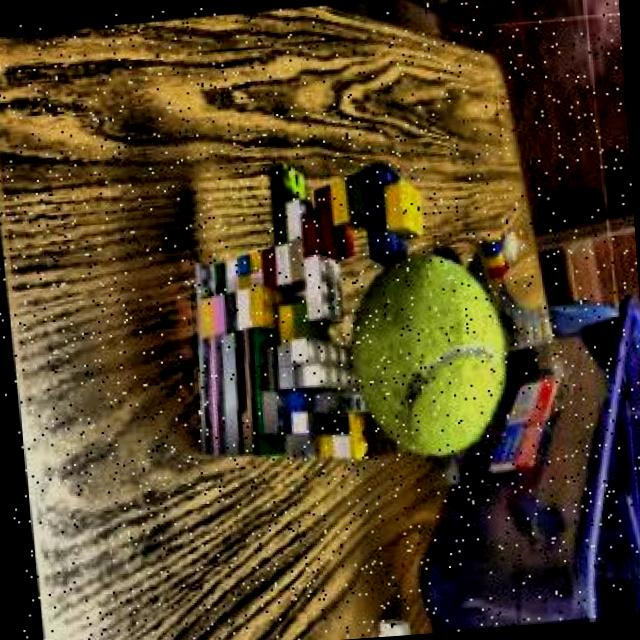Tennis Ball: (336, 246, 515, 464)
